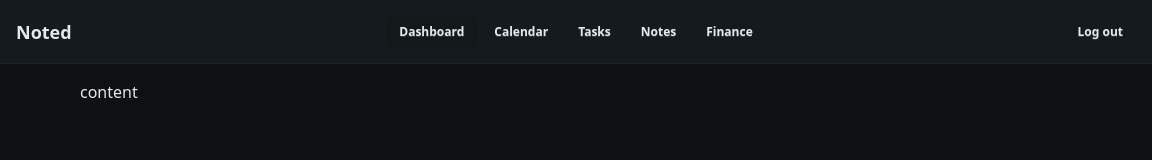
AppShell › surfaces an inline message when logout fails
This screenshot has width=1152, height=160.
Expected: the text "Noted" is shown, [16,18,72,46]
Click the button "Log out": click(1100, 32) [1064,16,1136,48]
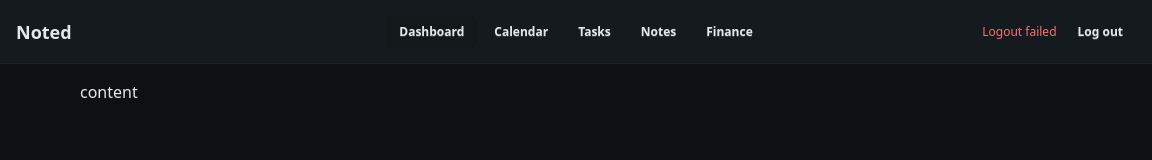
Expected: the message reads "Logout failed", [982,22,1057,40]
